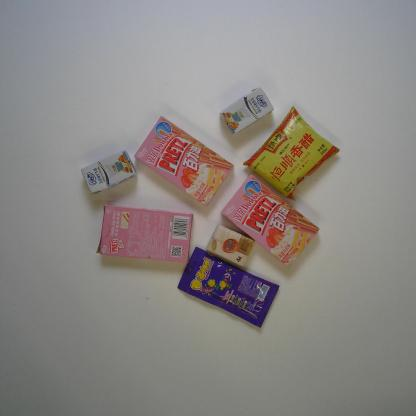Candy: (175, 245, 282, 330)
Dessert: (217, 172, 320, 268), (132, 114, 234, 209), (93, 204, 196, 265)
Milk: (218, 83, 275, 137), (79, 148, 138, 197)
Seasoner: (241, 106, 343, 201)
Tissue: (206, 223, 258, 270)
